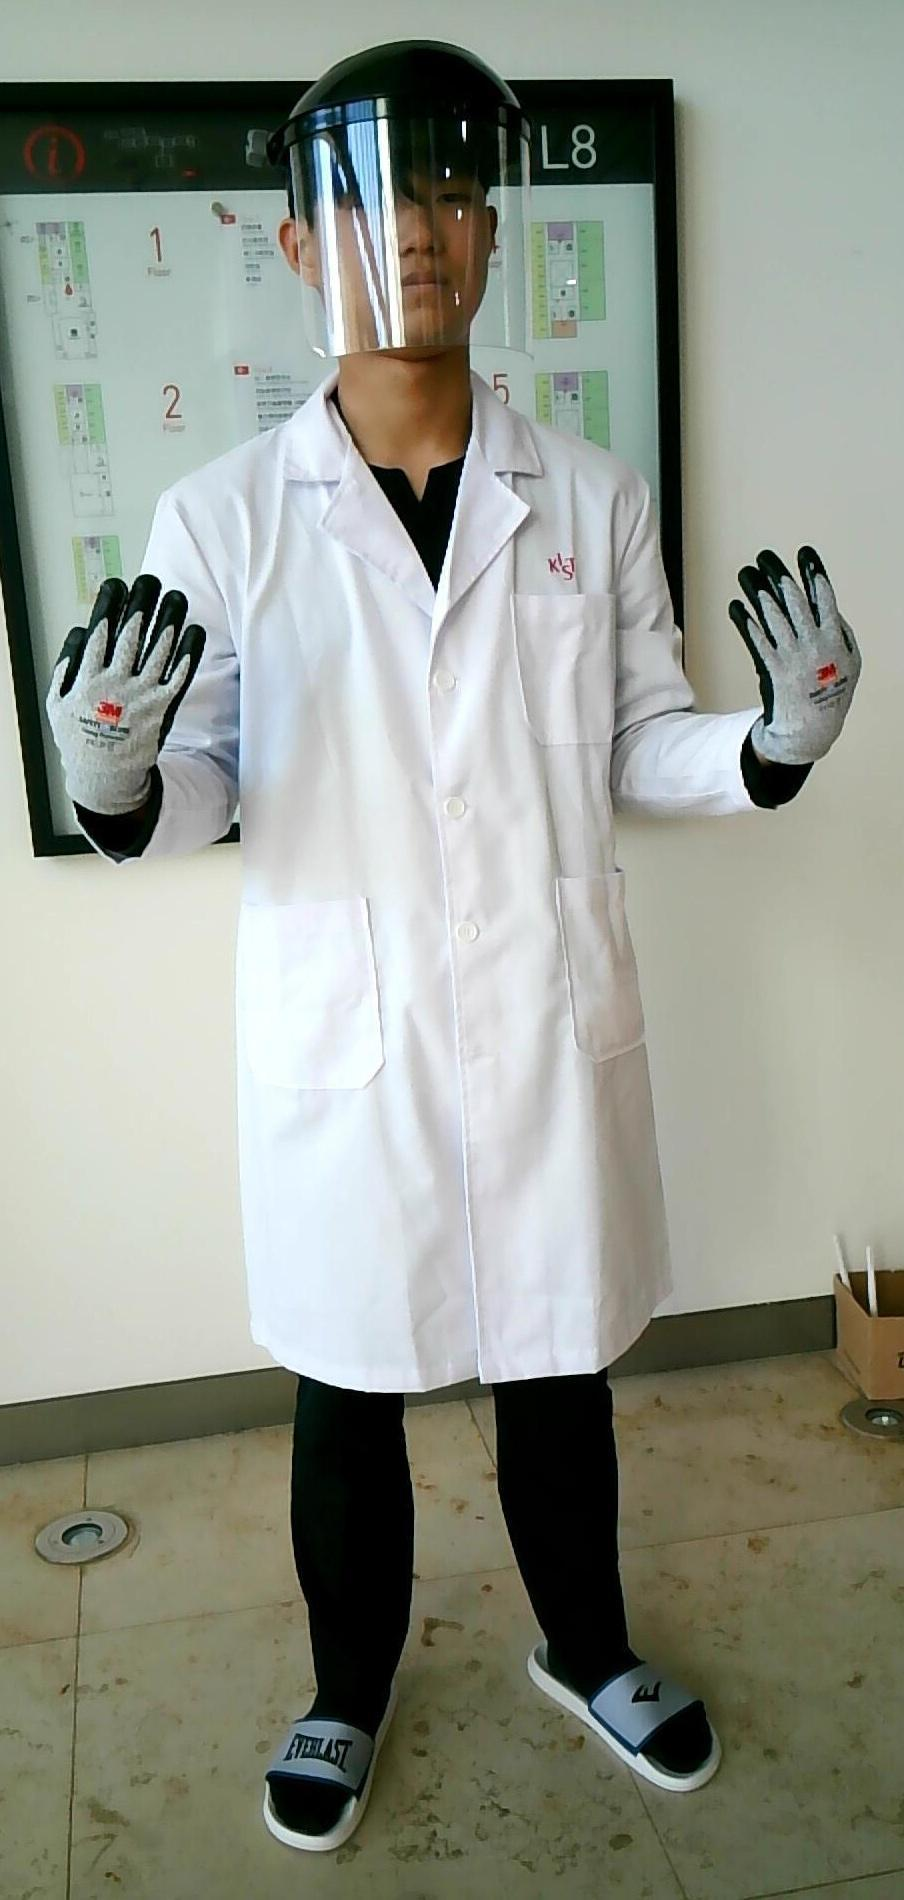lab_coat: (195, 470, 654, 1372)
